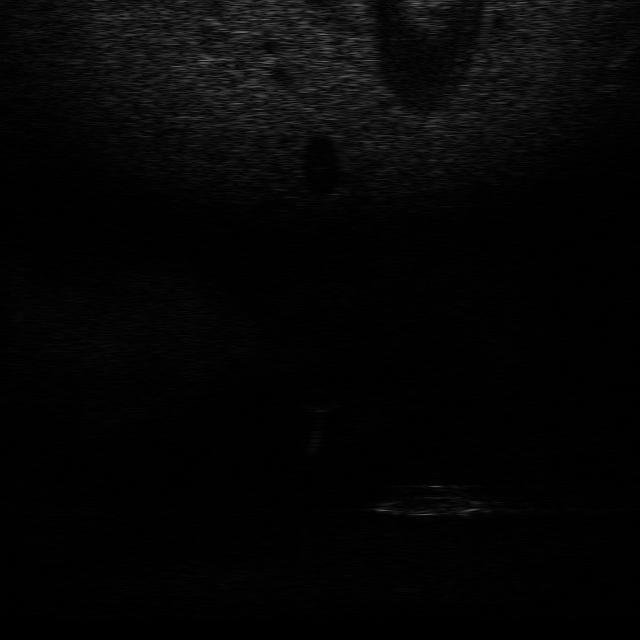ball: (290, 384, 346, 414)
tyre: (372, 478, 492, 520)
